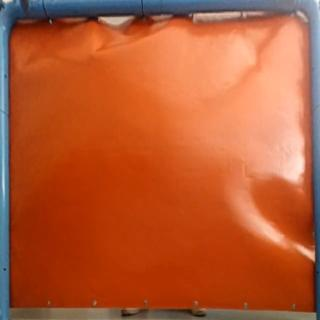Hit-hRxx: (84, 49, 98, 61)
